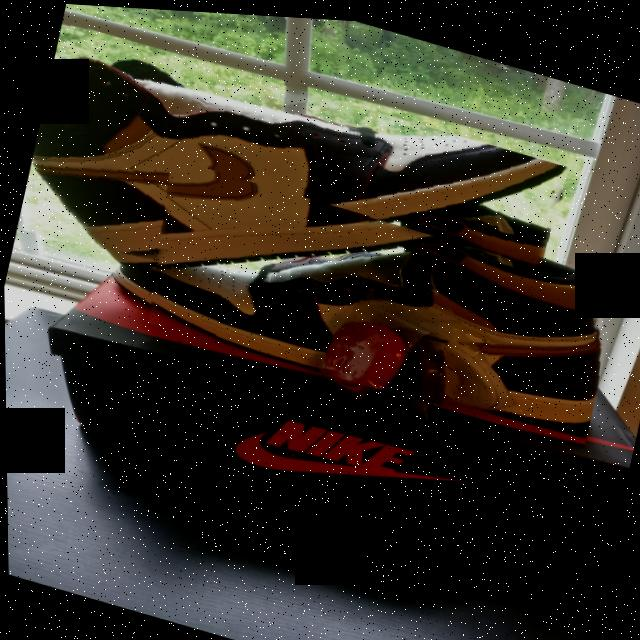shoe: (13, 18, 572, 372), (133, 154, 620, 443)
